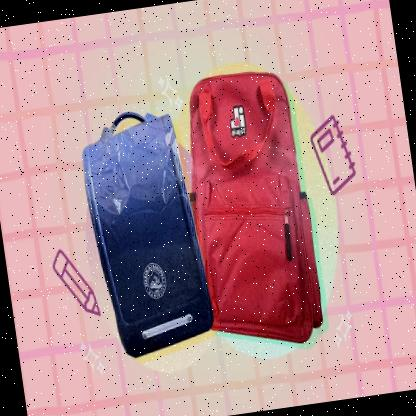bag: (164, 57, 340, 360), (70, 87, 220, 373)
